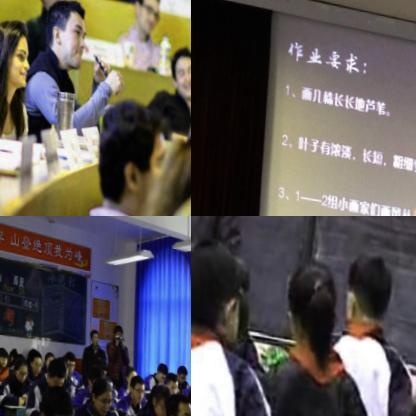head: (85, 88, 177, 216), (191, 229, 252, 347), (273, 246, 342, 344), (335, 238, 397, 332), (30, 0, 90, 73), (0, 3, 32, 93), (163, 34, 191, 99), (31, 379, 74, 416), (82, 373, 111, 414), (127, 0, 161, 30), (160, 385, 191, 416), (144, 378, 169, 416), (42, 352, 65, 385), (34, 0, 75, 17), (123, 372, 146, 402), (80, 359, 103, 388), (58, 345, 75, 374), (159, 366, 177, 393), (9, 355, 26, 381), (26, 348, 41, 375), (120, 358, 135, 384), (151, 356, 166, 379), (171, 360, 186, 382), (183, 379, 191, 416), (85, 324, 98, 344), (2, 342, 15, 361), (39, 347, 51, 367), (109, 317, 121, 337), (0, 343, 6, 367), (186, 365, 191, 389)
